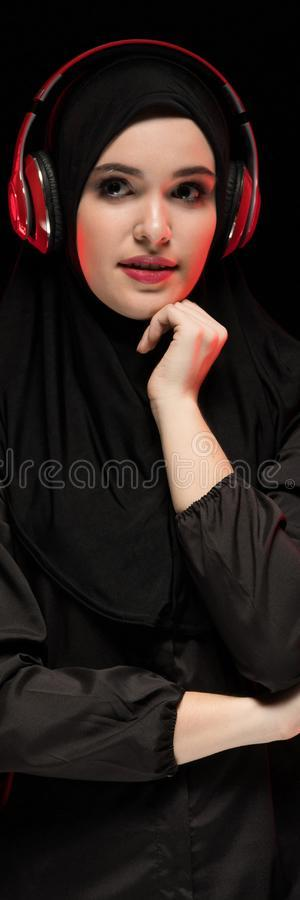No Mask: (29, 42, 280, 428)
